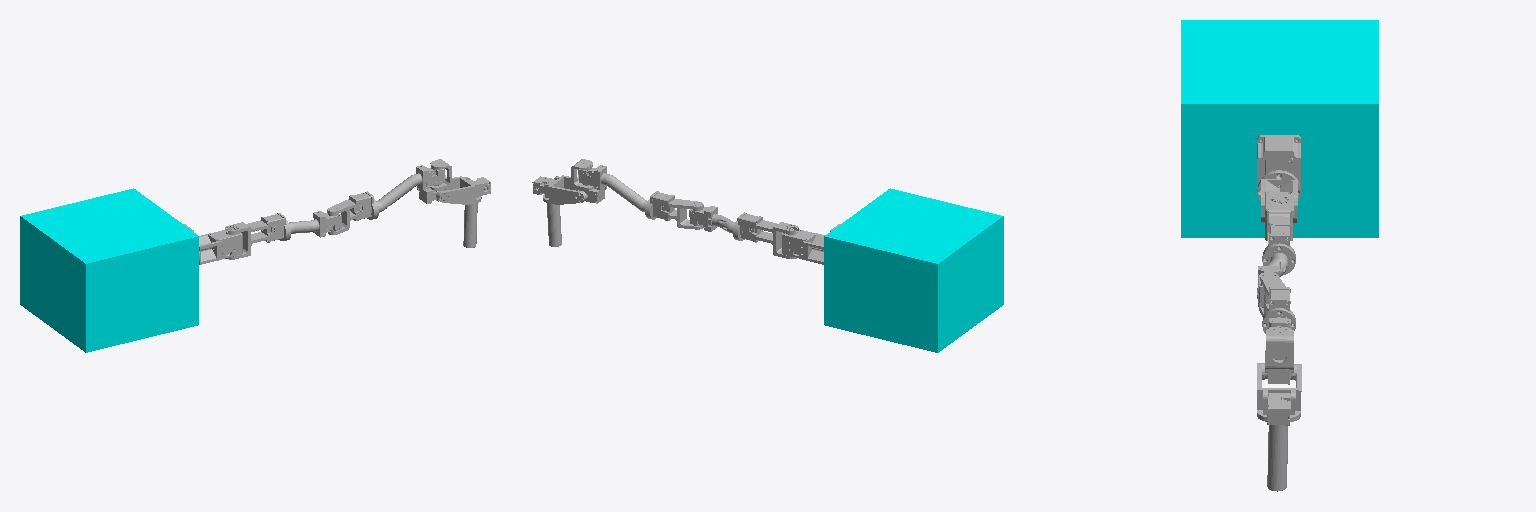
The robot description file, URDF, robot "m6_isomorphism_description":
<?xml version="1.0" encoding="utf-8"?>
<!-- This URDF was automatically created by SolidWorks to URDF Exporter! Originally created by Stephen Brawner (brawner@gmail.com) 
     Commit Version: 1.6.0-4-g7f85cfe  Build Version: 1.6.7995.38578
     For more information, please see http://wiki.ros.org/sw_urdf_exporter -->
<robot
  name="m6_isomorphism_description">
  <link
    name="torso_link">
    <visual>
      <origin xyz="0 0 0" rpy="0 0 0" />
      <geometry>
        <box size="0.2 0.2 0.15" />
      </geometry>
      <material name="Cyan">
        <color rgba="0 1.0 1.0 1.0"/>
      </material>
    </visual> 
    <collision>
      <origin xyz="0 0 0" rpy="0 0 0"/>
      <geometry>
        <box size="0.5 0.5 0.2" />
      </geometry>
    </collision>
  </link>
  <link
    name="lbase_link">
    <inertial>
      <origin
        xyz="0.00081892 -0.0083159 0.021995"
        rpy="0 0 0" />
      <mass
        value="0.14153" />
      <inertia
        ixx="5.3433E-05"
        ixy="9.5426E-15"
        ixz="-1.697E-16"
        iyy="3.2138E-05"
        iyz="5.391E-07"
        izz="5.5068E-05" />
    </inertial>
    <visual>
      <origin
        xyz="0 0 0"
        rpy="0 0 0" />
      <geometry>
        <mesh
          filename="package://m6_isomorphism_description/meshes/left/lbase_link.STL" />
      </geometry>
      <material
        name="">
        <color
          rgba="0.75294 0.75294 0.75294 1" />
      </material>
    </visual>
    <collision>
      <origin
        xyz="0 0 0"
        rpy="0 0 0" />
      <geometry>
        <mesh
          filename="package://m6_isomorphism_description/meshes/left/lbase_link.STL" />
      </geometry>
    </collision>
  </link>
  <joint
    name="left_Jbase"
    type="fixed">
    <origin
      xyz="0.1 0.0 0.0"
      rpy="-1.5708 0 -1.5708" />
    <parent
      link="torso_link" />
    <child
      link="lbase_link" />  
    <axis
      xyz="0 0 1" />
  </joint>
  <link
    name="Link1_left">
    <inertial>
      <origin
        xyz="-4.9359E-06 -0.00023578 0.055002"
        rpy="0 0 0" />
      <mass
        value="0.10316" />
      <inertia
        ixx="2.6252E-05"
        ixy="-1.512E-08"
        ixz="-1.5088E-09"
        iyy="2.553E-05"
        iyz="-7.2071E-08"
        izz="1.6668E-05" />
    </inertial>
    <visual>
      <origin
        xyz="0 0 0"
        rpy="0 0 0" />
      <geometry>
        <mesh
          filename="package://m6_isomorphism_description/meshes/left/Link1_left.STL" />
      </geometry>
      <material
        name="">
        <color
          rgba="0.75294 0.75294 0.75294 1" />
      </material>
    </visual>
    <collision>
      <origin
        xyz="0 0 0"
        rpy="0 0 0" />
      <geometry>
        <mesh
          filename="package://m6_isomorphism_description/meshes/left/Link1_left.STL" />
      </geometry>
    </collision>
  </link>
  <joint
    name="joint1_left"
    type="revolute">
    <origin
      xyz="0.00081892 0.0024472 0.039"
      rpy="0 0 0" />
    <parent
      link="lbase_link" />
    <child
      link="Link1_left" />
    <axis
      xyz="0 0 1" />
    <limit
      lower="-3.1415926536"
      upper="3.1415926536"
      effort="0"
      velocity="0" />
  </joint>
  <link
    name="Link2_left">
    <inertial>
      <origin
        xyz="-9.4609E-05 0.054722 0.0046093"
        rpy="0 0 0" />
      <mass
        value="0.053274" />
      <inertia
        ixx="1.6186E-05"
        ixy="3.4697E-08"
        ixz="1.1836E-07"
        iyy="1.0104E-05"
        iyz="-1.663E-06"
        izz="1.0442E-05" />
    </inertial>
    <visual>
      <origin
        xyz="0 0 0"
        rpy="0 0 0" />
      <geometry>
        <mesh
          filename="package://m6_isomorphism_description/meshes/left/Link2_left.STL" />
      </geometry>
      <material
        name="">
        <color
          rgba="0.75294 0.75294 0.75294 1" />
      </material>
    </visual>
    <collision>
      <origin
        xyz="0 0 0"
        rpy="0 0 0" />
      <geometry>
        <mesh
          filename="package://m6_isomorphism_description/meshes/left/Link2_left.STL" />
      </geometry>
    </collision>
  </link>
  <joint
    name="joint2_left"
    type="revolute">
    <origin
      xyz="0 0 0.07625"
      rpy="1.5708 0 0" />
    <parent
      link="Link1_left" />
    <child
      link="Link2_left" />
    <axis
      xyz="0 0 1" />
    <limit
      lower="-2.006"
      upper="2.006"
      effort="0"
      velocity="0" />
  </joint>
  <link
    name="Link3_left">
    <inertial>
      <origin
        xyz="-0.0088573 0.00010453 0.060075"
        rpy="0 0 0" />
      <mass
        value="0.039076" />
      <inertia
        ixx="9.9382E-06"
        ixy="1.2005E-10"
        ixz="1.4648E-06"
        iyy="1.0153E-05"
        iyz="-3.7245E-09"
        izz="2.7E-06" />
    </inertial>
    <visual>
      <origin
        xyz="0 0 0"
        rpy="0 0 0" />
      <geometry>
        <mesh
          filename="package://m6_isomorphism_description/meshes/left/Link3_left.STL" />
      </geometry>
      <material
        name="">
        <color
          rgba="0.752941176470588 0.752941176470588 0.752941176470588 1" />
      </material>
    </visual>
    <collision>
      <origin
        xyz="0 0 0"
        rpy="0 0 0" />
      <geometry>
        <mesh
          filename="package://m6_isomorphism_description/meshes/left/Link3_left.STL" />
      </geometry>
    </collision>
  </link>
  <joint
    name="joint3_left"
    type="revolute">
    <origin
      xyz="0 0.0856 0"
      rpy="1.5708 0.020931 3.1416" />
    <parent
      link="Link2_left" />
    <child
      link="Link3_left" />
    <axis
      xyz="0 0 1" />
    <limit
      lower="-3.1415926536"
      upper="3.1415926536"
      effort="0"
      velocity="0" />
  </joint>
  <link
    name="Link4_left">
    <inertial>
      <origin
        xyz="0.0090125 -0.046452 0.0047712"
        rpy="0 0 0" />
      <mass
        value="0.045678" />
      <inertia
        ixx="9.3402E-06"
        ixy="7.9511E-07"
        ixz="-1.5755E-07"
        iyy="7.7962E-06"
        iyz="6.394E-07"
        izz="5.5638E-06" />
    </inertial>
    <visual>
      <origin
        xyz="0 0 0"
        rpy="0 0 0" />
      <geometry>
        <mesh
          filename="package://m6_isomorphism_description/meshes/left/Link4_left.STL" />
      </geometry>
      <material
        name="">
        <color
          rgba="0.75294 0.75294 0.75294 1" />
      </material>
    </visual>
    <collision>
      <origin
        xyz="0 0 0"
        rpy="0 0 0" />
      <geometry>
        <mesh
          filename="package://m6_isomorphism_description/meshes/left/Link4_left.STL" />
      </geometry>
    </collision>
  </link>
  <joint
    name="joint4_left"
    type="revolute">
    <origin
      xyz="-0.0108 0 0.0866"
      rpy="-1.5708 0 0" />
    <parent
      link="Link3_left" />
    <child
      link="Link4_left" />
    <axis
      xyz="0 0 1" />
    <limit
      lower="-2.5307"
      upper="1.0472"
      effort="0"
      velocity="0" />
  </joint>
  <link
    name="Link5_left">
    <inertial>
      <origin
        xyz="2.0294E-06 0.022265 0.079959"
        rpy="0 0 0" />
      <mass
        value="0.04843" />
      <inertia
        ixx="2.866E-05"
        ixy="8.9312E-11"
        ixz="1.8969E-09"
        iyy="2.5141E-05"
        iyz="-8.6915E-06"
        izz="6.062E-06" />
    </inertial>
    <visual>
      <origin
        xyz="0 0 0"
        rpy="0 0 0" />
      <geometry>
        <mesh
          filename="package://m6_isomorphism_description/meshes/left/Link5_left.STL" />
      </geometry>
      <material
        name="">
        <color
          rgba="0.75294 0.75294 0.75294 1" />
      </material>
    </visual>
    <collision>
      <origin
        xyz="0 0 0"
        rpy="0 0 0" />
      <geometry>
        <mesh
          filename="package://m6_isomorphism_description/meshes/left/Link5_left.STL" />
      </geometry>
    </collision>
  </link>
  <joint
    name="joint5_left"
    type="revolute">
    <origin
      xyz="0.0108 -0.0679 0"
      rpy="1.5708 0 0" />
    <parent
      link="Link4_left" />
    <child
      link="Link5_left" />
    <axis
      xyz="0 0 1" />
    <limit
      lower="-3.1415926536"
      upper="3.1415926536"
      effort="0"
      velocity="0" />
  </joint>
  <link
    name="Link6_left">
    <inertial>
      <origin
        xyz="-0.0029023 -0.00020771 -0.0089462"
        rpy="0 0 0" />
      <mass
        value="0.033032" />
      <inertia
        ixx="4.1554E-06"
        ixy="-3.7945E-08"
        ixz="8.6008E-07"
        iyy="6.6046E-06"
        iyz="4.435E-08"
        izz="4.9225E-06" />
    </inertial>
    <visual>
      <origin
        xyz="0 0 0"
        rpy="0 0 0" />
      <geometry>
        <mesh
          filename="package://m6_isomorphism_description/meshes/left/Link6_left.STL" />
      </geometry>
      <material
        name="">
        <color
          rgba="0.75294 0.75294 0.75294 1" />
      </material>
    </visual>
    <collision>
      <origin
        xyz="0 0 0"
        rpy="0 0 0" />
      <geometry>
        <mesh
          filename="package://m6_isomorphism_description/meshes/left/Link6_left.STL" />
      </geometry>
    </collision>
  </link>
  <joint
    name="joint6_left"
    type="revolute">
    <origin
      xyz="0 0 0.1205"
      rpy="1.5708 -1.5708 0" />
    <parent
      link="Link5_left" />
    <child
      link="Link6_left" />
    <axis
      xyz="0 0 -1" />
    <limit
      lower="-1.47"
      upper="1.47"
      effort="0"
      velocity="0" />
  </joint>
  <link
    name="Link7_left">
    <inertial>
      <origin
        xyz="-0.053415 -0.016259 -7.1386E-05"
        rpy="0 0 0" />
      <mass
        value="0.06829" />
      <inertia
        ixx="3.6319E-05"
        ixy="-9.7986E-06"
        ixz="-3.7117E-09"
        iyy="2.5283E-05"
        iyz="-2.933E-10"
        izz="4.5198E-05" />
    </inertial>
    <visual>
      <origin
        xyz="0 0 0"
        rpy="0 0 0" />
      <geometry>
        <mesh
          filename="package://m6_isomorphism_description/meshes/left/Link7_left.STL" />
      </geometry>
      <material
        name="">
        <color
          rgba="0.75294 0.75294 0.75294 1" />
      </material>
    </visual>
    <collision>
      <origin
        xyz="0 0 0"
        rpy="0 0 0" />
      <geometry>
        <mesh
          filename="package://m6_isomorphism_description/meshes/left/Link7_left.STL" />
      </geometry>
    </collision>
  </link>
  <joint
    name="joint7_left"
    type="revolute">
    <origin
      xyz="0 0 0"
      rpy="-1.5708 0 3.1416" />
    <parent
      link="Link6_left" />
    <child
      link="Link7_left" />
    <axis
      xyz="0 0 -1" />
    <limit
      lower="-1.57"
      upper="1.57"
      effort="0"
      velocity="0" />
  </joint>
</robot>

--- What the picture shows (computed from the rendered views, not written in the file) ---
Views: 3 orthographic renders of the robot side by side, from view 1: azimuth 30°, elevation 25°; view 2: azimuth 150°, elevation 25°; view 3: azimuth 270°, elevation 25°.
Model m6_isomorphism_description with 9 links and 8 joints (7 revolute, 1 fixed), rooted at torso_link, posed all joints at 0.
Visible links, largest first — view 1: torso_link, Link7_left, Link2_left, Link4_left, Link1_left, Link5_left, Link3_left, Link6_left; view 2: torso_link, Link7_left, Link2_left, Link4_left, Link1_left, Link5_left, Link3_left, Link6_left; view 3: torso_link, Link7_left, lbase_link, Link2_left, Link6_left, Link4_left, Link1_left, Link3_left.
Link boxes in pixels (x1,y1,x2,y2): torso_link: (20, 188, 198, 352); Link7_left: (436, 176, 490, 247); Link2_left: (225, 213, 290, 259); Link4_left: (327, 191, 378, 234); Link1_left: (199, 230, 242, 264); Link5_left: (376, 165, 444, 212); Link3_left: (289, 211, 341, 237); Link6_left: (417, 159, 451, 203); torso_link: (824, 188, 1003, 352); Link7_left: (532, 175, 587, 246); Link2_left: (733, 212, 798, 258); Link4_left: (645, 191, 703, 229); Link1_left: (782, 229, 825, 264); Link5_left: (579, 165, 647, 211); Link3_left: (689, 206, 735, 233); Link6_left: (571, 159, 606, 203); torso_link: (1181, 20, 1378, 237); Link7_left: (1257, 363, 1301, 491); lbase_link: (1257, 135, 1300, 201); Link2_left: (1262, 196, 1295, 275); Link6_left: (1265, 326, 1293, 384); Link4_left: (1259, 272, 1295, 333); Link1_left: (1261, 179, 1297, 240); Link3_left: (1257, 253, 1287, 306).
Bounding box of the posed robot: 0.766 × 0.2 × 0.1802 m (x, y, z).
8 mesh visuals loaded from 8 distinct referenced files (8 binary STL).
